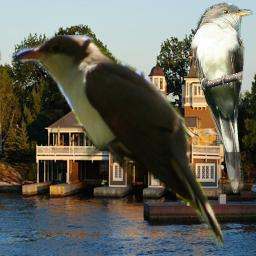Cuckoo: (9, 35, 223, 248), (191, 2, 253, 194)
